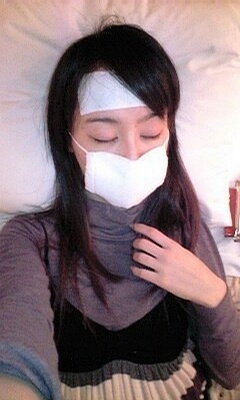face_mask: (72, 65, 170, 205)
